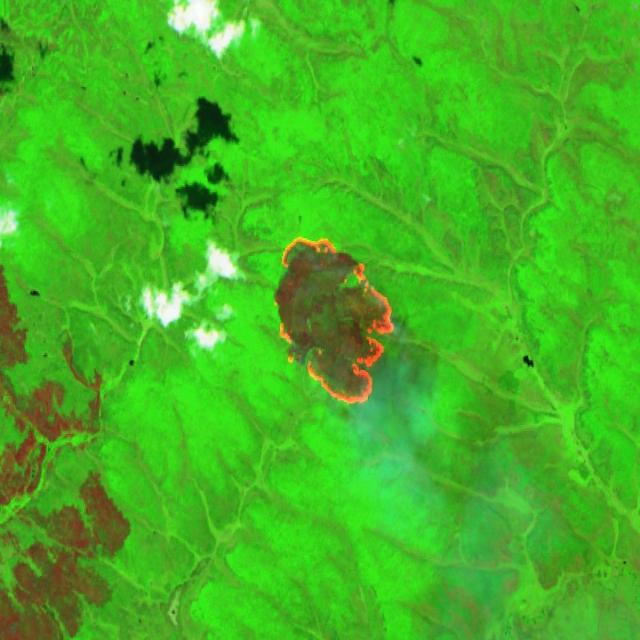fire: (269, 232, 398, 409)
